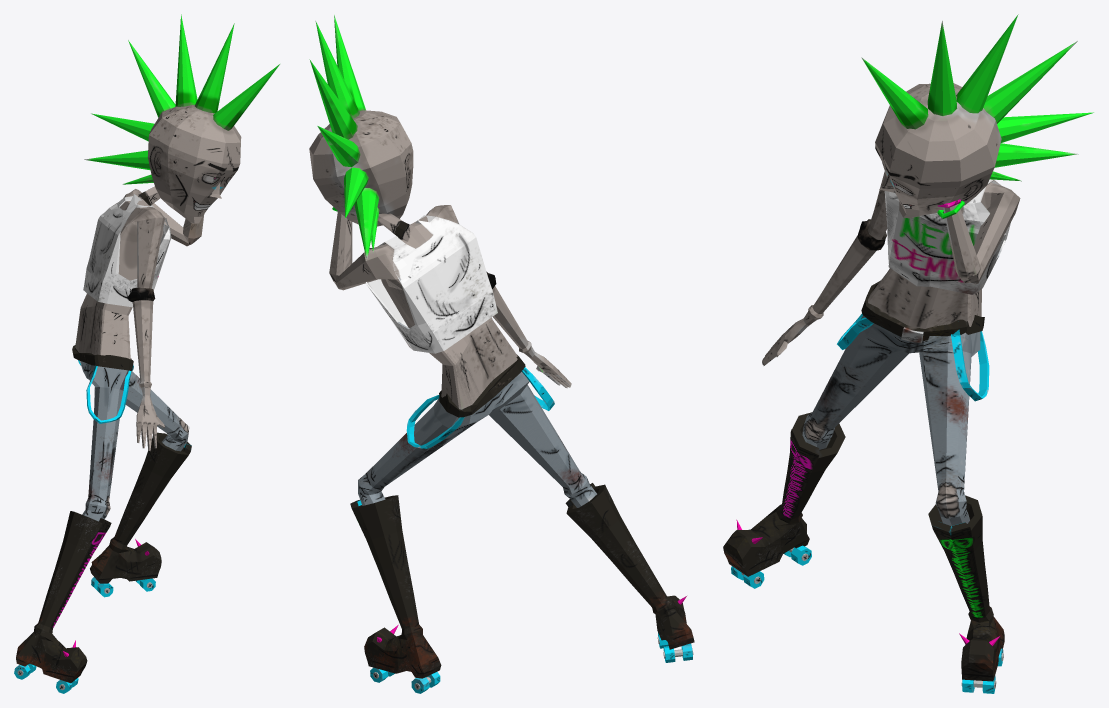
File: punkAnimation_000065.obj
3 renders of one model, left to right at view 1: azimuth 30°, elevation 25°; view 2: azimuth 150°, elevation 25°; view 3: azimuth 270°, elevation 25°, orthographic. The views are drawn at different scales.
Visible parts, largest first — view 1: Cube.004_Cube.003; view 2: Cube.004_Cube.003; view 3: Cube.004_Cube.003.
Part boxes in pixels (box(x1,y1,x2,y2)): Cube.004_Cube.003: box(14, 14, 279, 693); Cube.004_Cube.003: box(309, 15, 694, 693); Cube.004_Cube.003: box(723, 14, 1093, 693).
Bounding box in the file's own units: 3.68 × 6.67 × 3.12.
